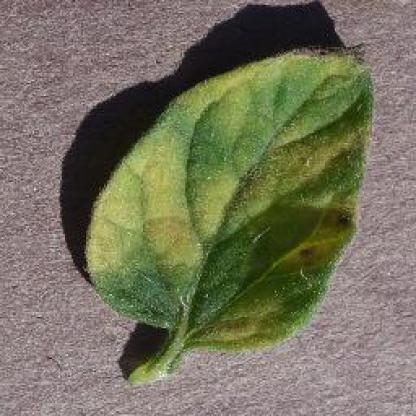bad leaf: (91, 54, 375, 340)
